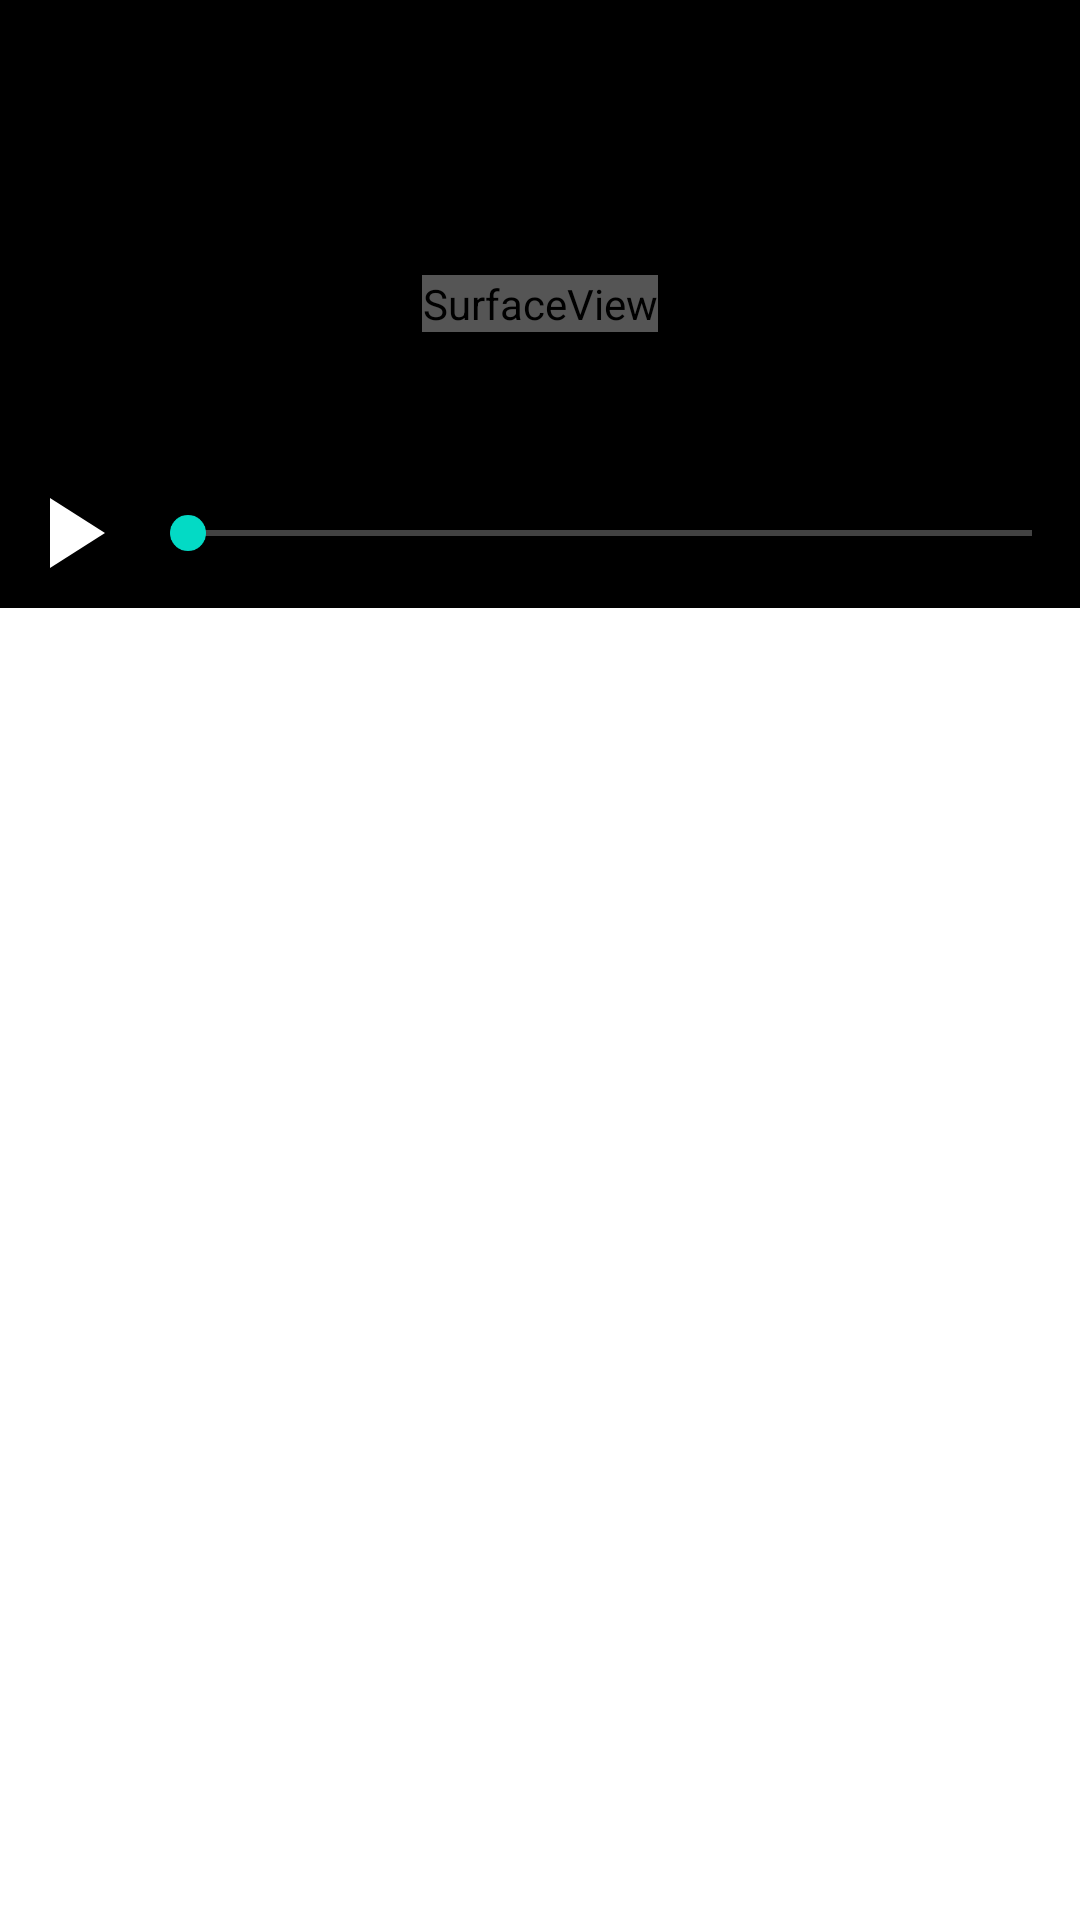

Icon click points for this 1080x1920 phone screenshot, format (x,y):
play: (77,533)
